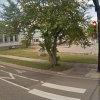Crosswalk: (41, 67, 85, 100)
